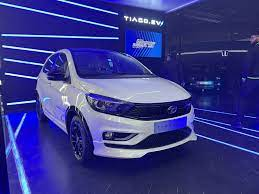Tiago: (34, 45, 199, 169)
